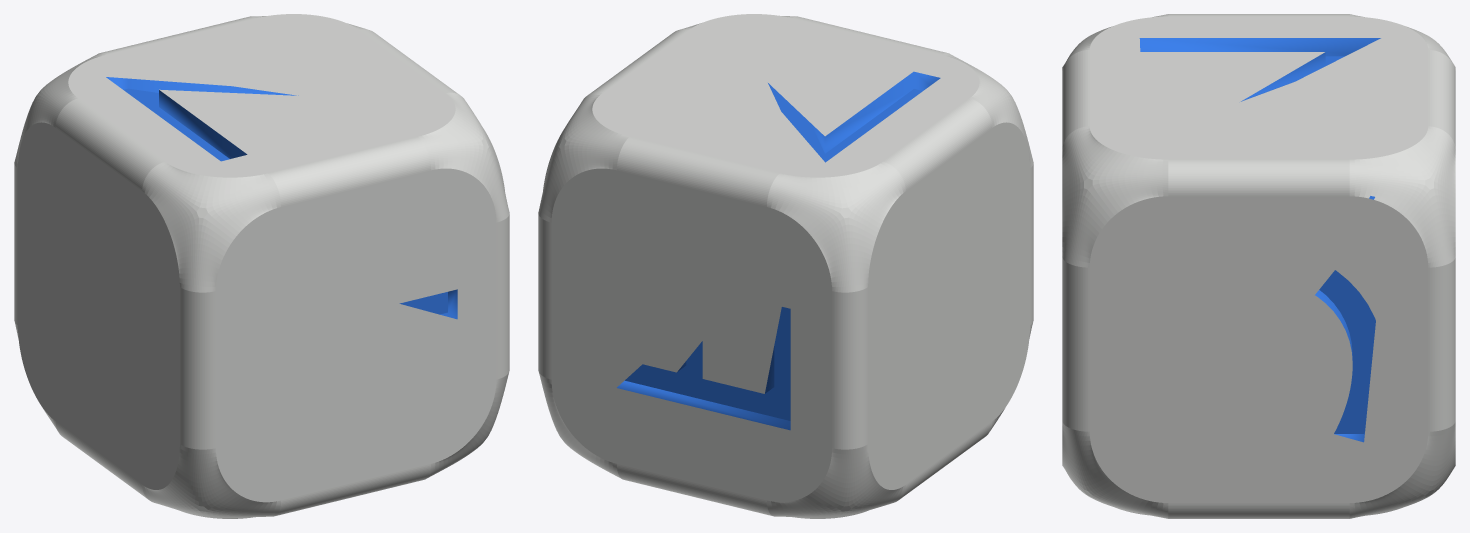
The model's file is BoggleDice.fbx_Die10.fbx.
3 views of the same model, side by side, from view 1: azimuth 30°, elevation 25°; view 2: azimuth 150°, elevation 25°; view 3: azimuth 270°, elevation 25° (orthographic). The views are drawn at different scales.
Parts seen in each view (by area): view 1: Die10; view 2: Die10; view 3: Die10.
Boxes of the visible parts, x1,y1,x2,y2 form: Die10: (14, 14, 509, 518); Die10: (538, 14, 1033, 518); Die10: (1062, 14, 1455, 518).
Size of the model in its own units: 200 by 200 by 200.
